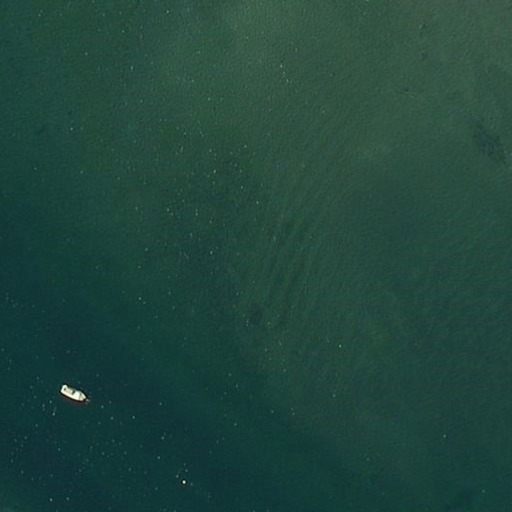ship: (57, 381, 93, 406)
